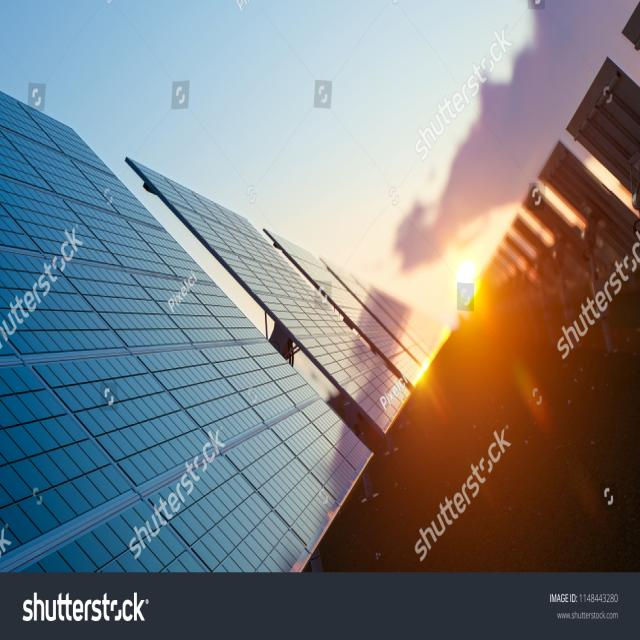clean-solar-panel: (1, 93, 370, 571), (126, 159, 434, 435)
